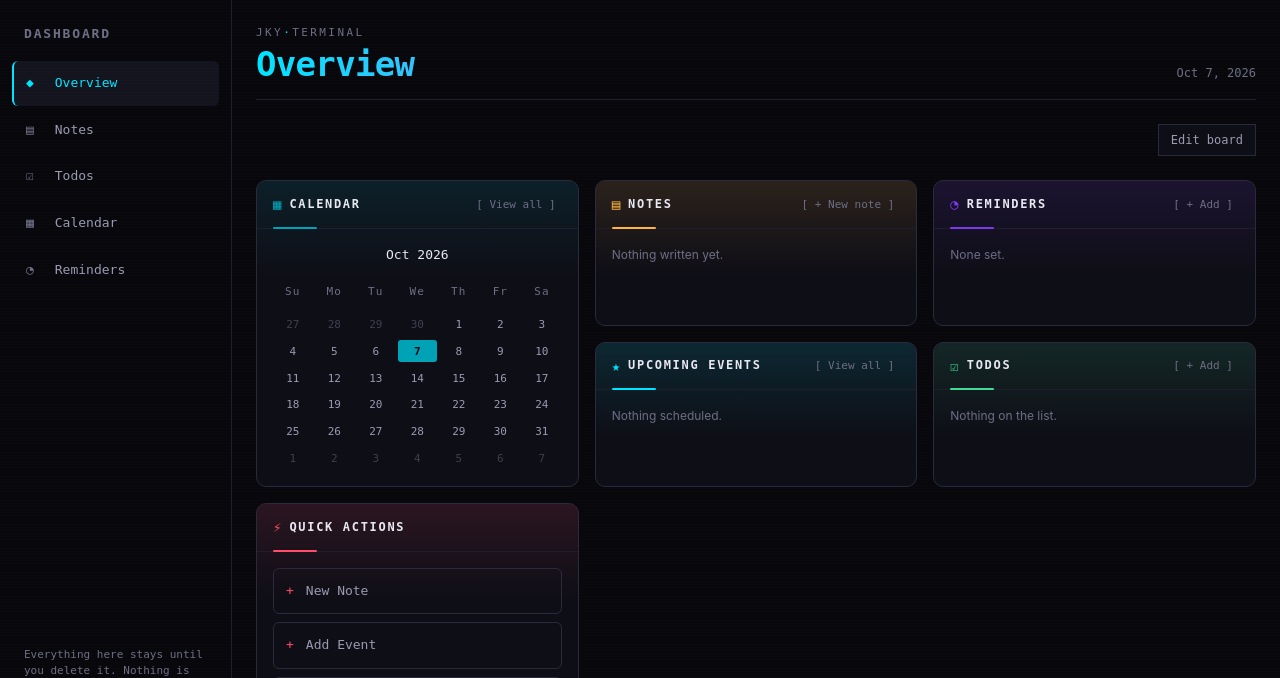
Test: the overview grid › the layout editor › brings everything back
Click the button "Edit board": (1207, 140) [1158,124,1256,156]
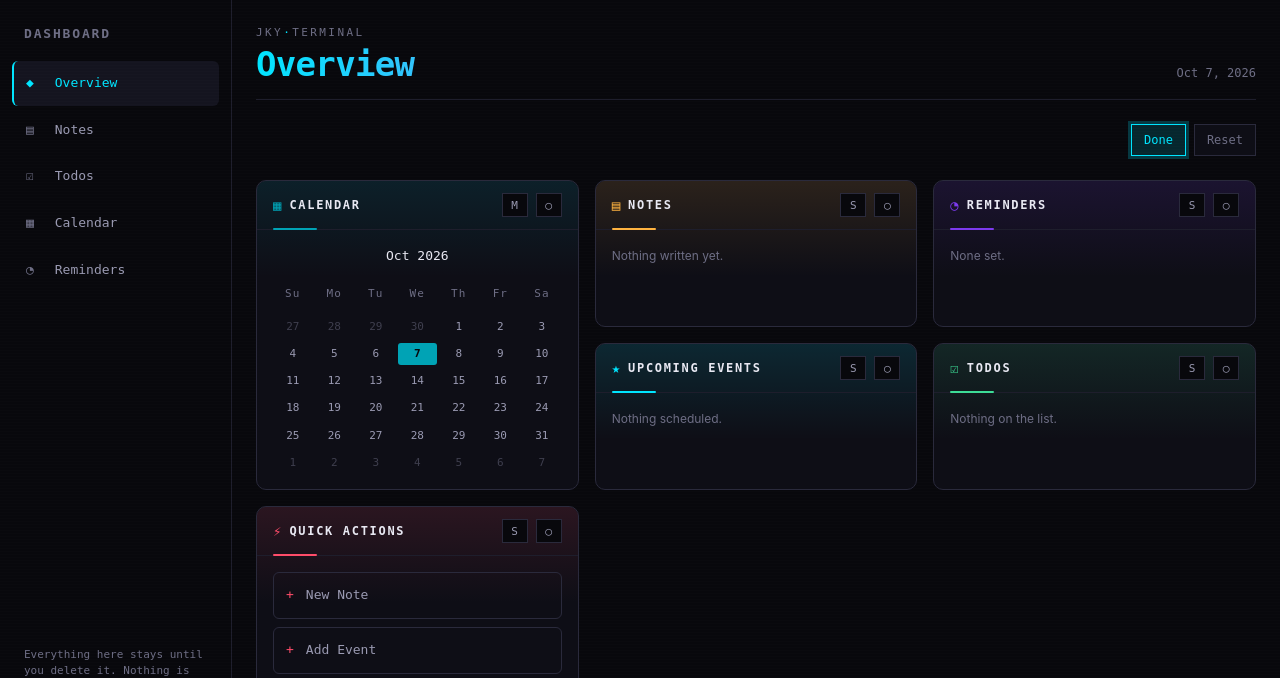
Click the button named "hide card": (887, 205) [874,193,900,217]
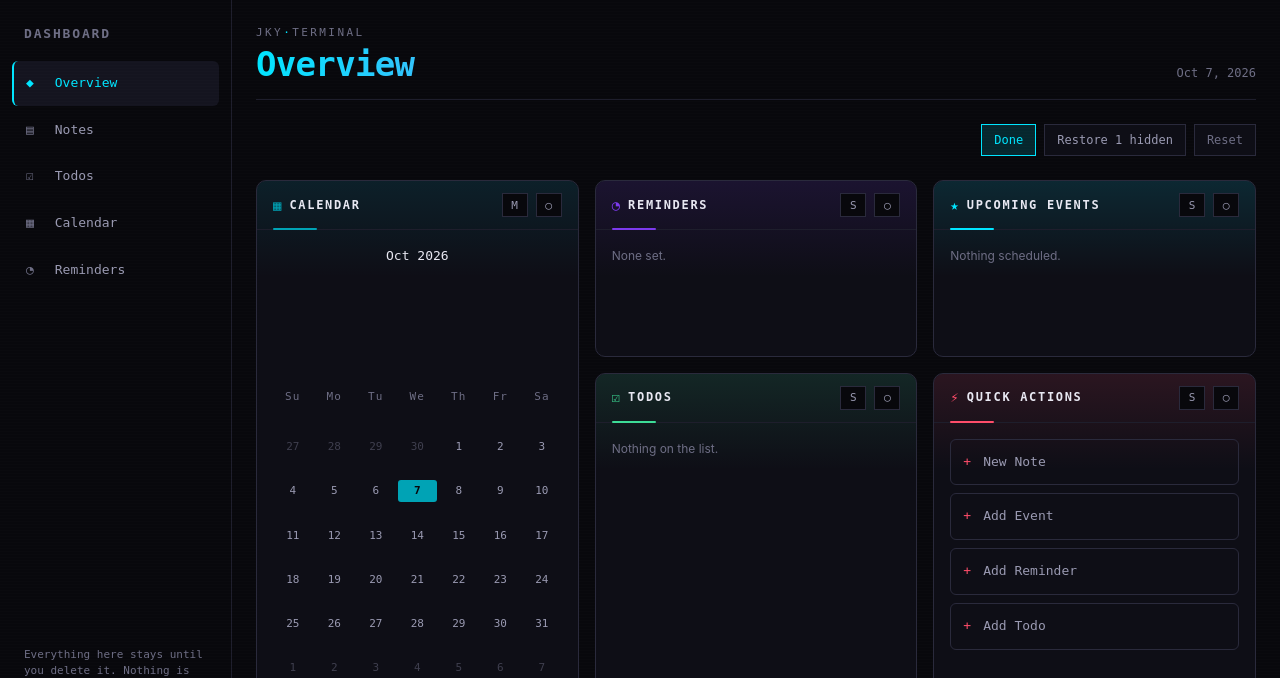
Click the button "Restore 1 hidden": (1115, 140) [1044,124,1186,156]
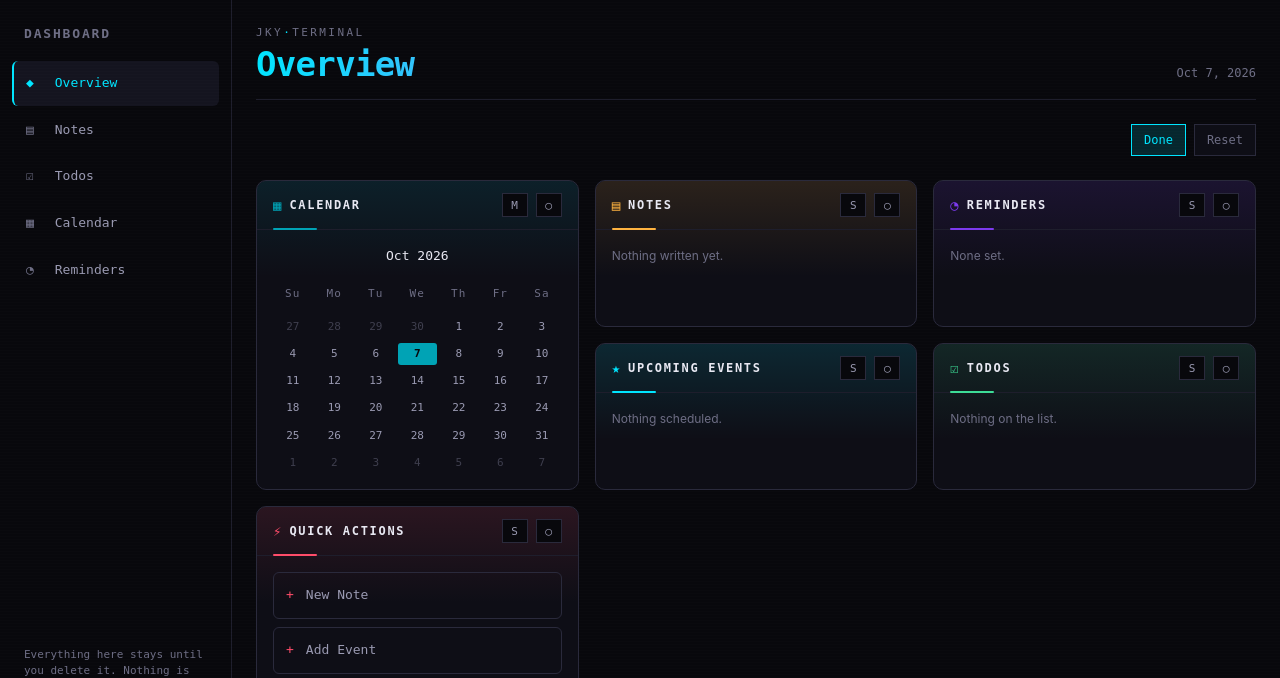
Result: the element "Notes" is shown at [595,180,917,327]
